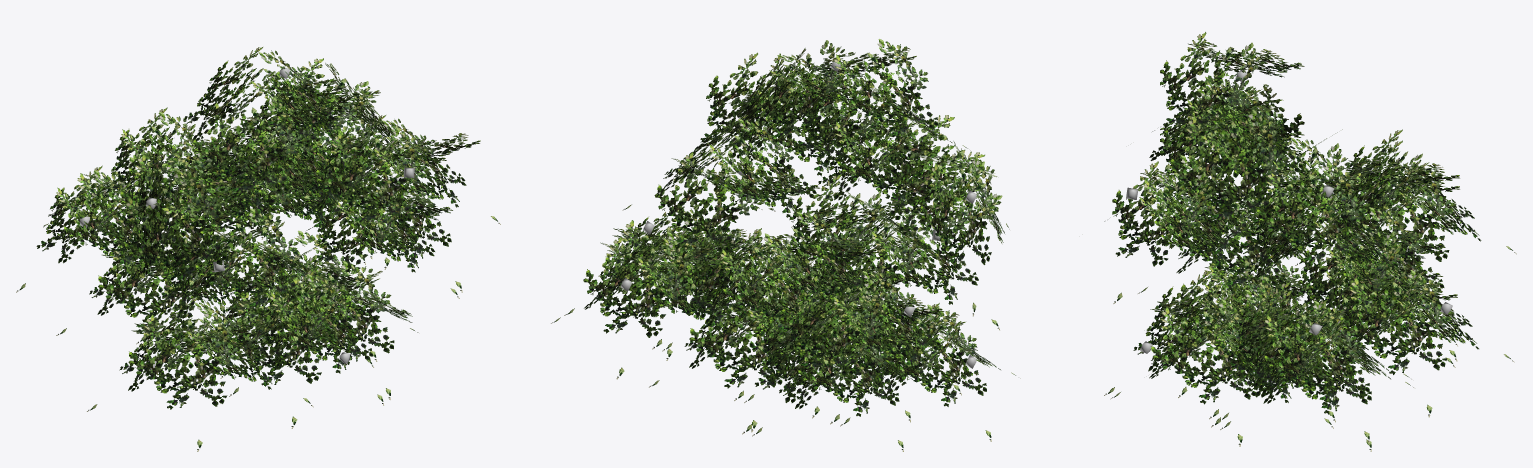
Rendered from tree_apple_top_f.dae.
3 renders of one model, left to right at view 1: azimuth 30°, elevation 25°; view 2: azimuth 150°, elevation 25°; view 3: azimuth 270°, elevation 25°, orthographic. The views are drawn at different scales.
Visible parts, largest first — view 1: canopy48-Pivot; view 2: canopy48-Pivot; view 3: canopy48-Pivot.
Part boxes in pixels (x1,y1,x2,y2): canopy48-Pivot: (16,47,500,451); canopy48-Pivot: (551,39,1020,451); canopy48-Pivot: (1104,32,1516,451).
Bounding box in the file's own units: 15.93 × 14.09 × 12.65.
